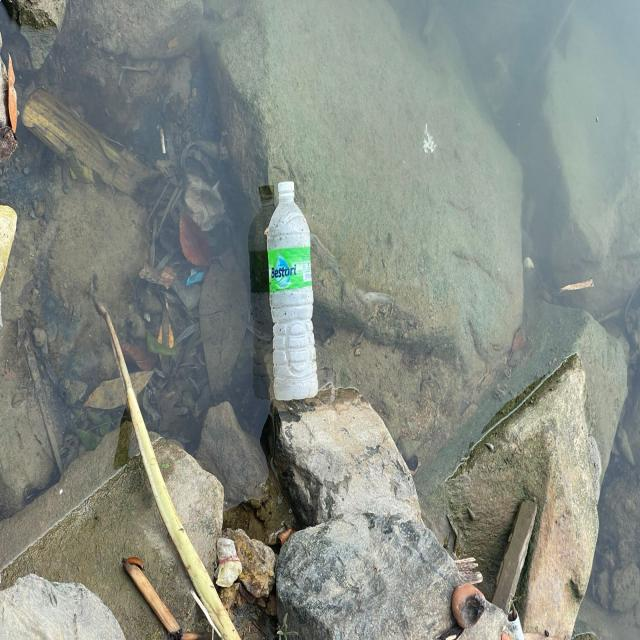Botol Plastik: (262, 172, 335, 409)
